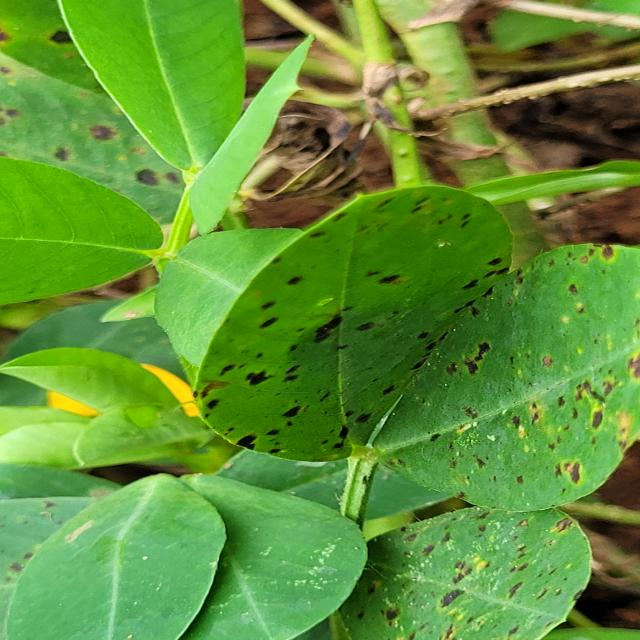Ground nut_tikka leaf spot: (195, 184, 515, 466), (377, 238, 640, 507)
